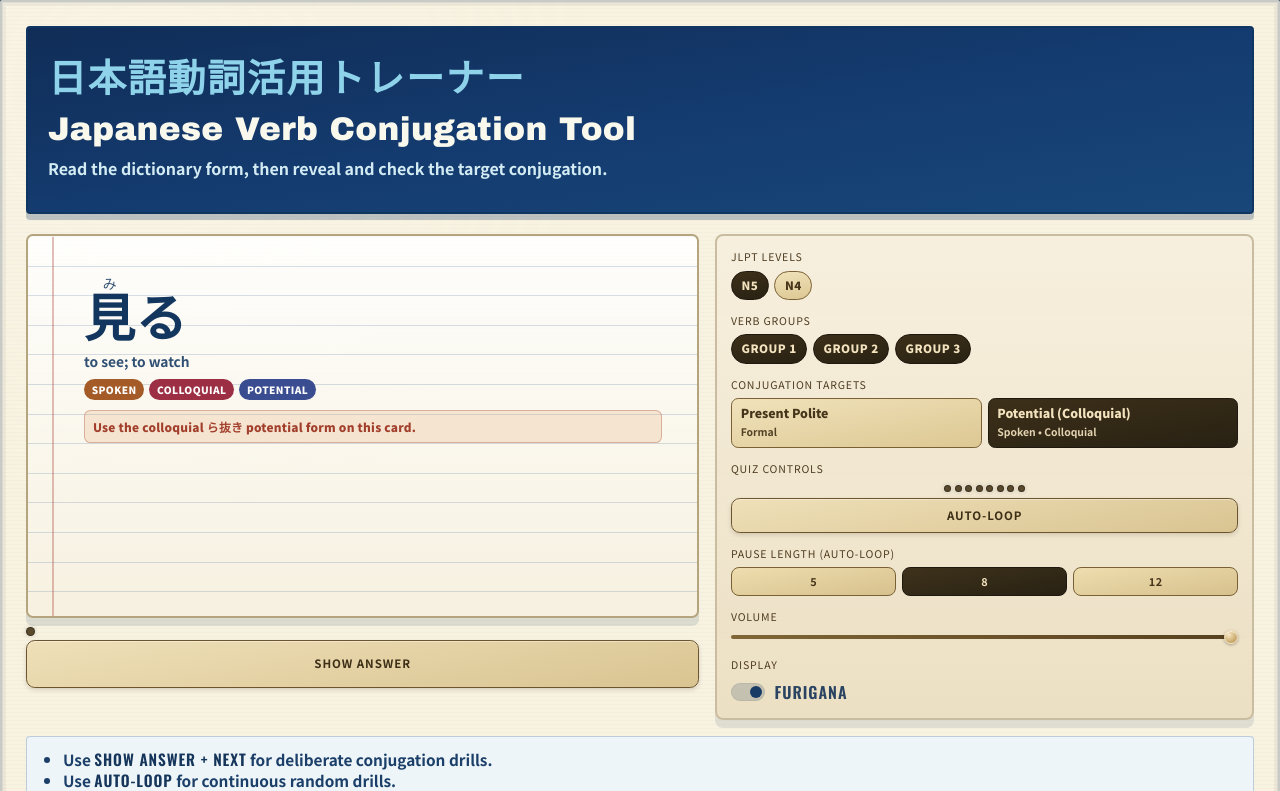
Test: JapaneseVerbConjugationToolPage › reveals immediately on power-on after a filter change
# First power-on reveals immediately
Step 1. Click the button "Auto-Loop" → [985, 515], box [731,498,1238,533]
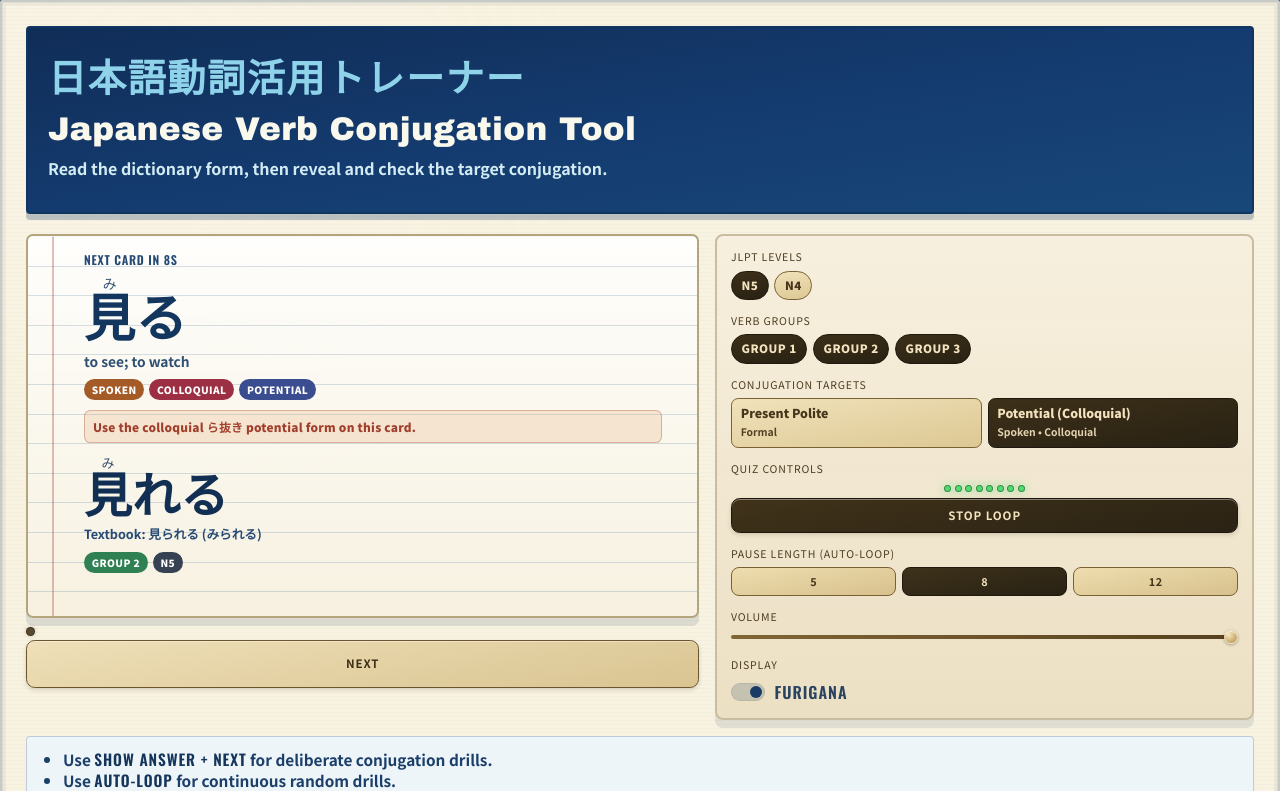
Expected: the text "れる" is shown, [132,456,228,526]
# Power off, advance past reveal
Step 2. Click the button "Stop Loop" → [985, 515], box [731,498,1238,533]
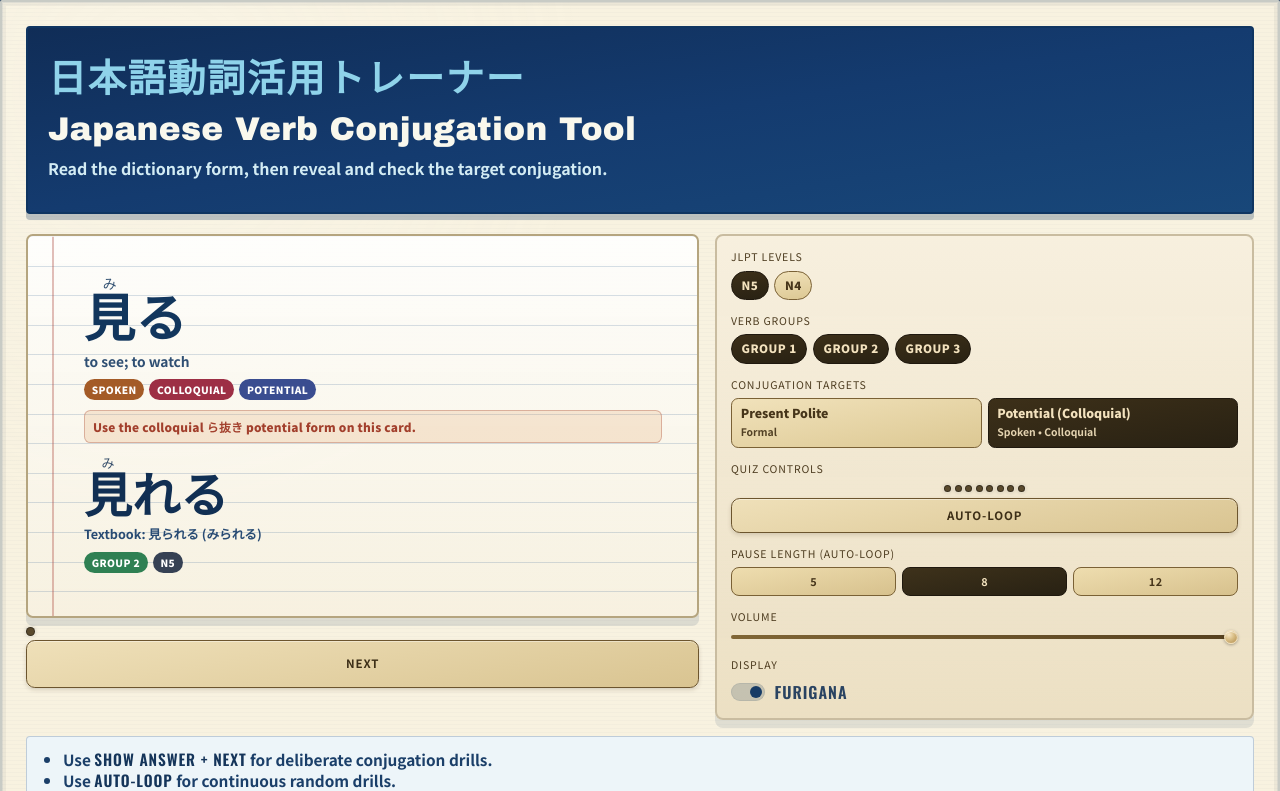
Step 3. Click the button with aria-label "advance to the next item" → [363, 664], box [26,640,699,688]
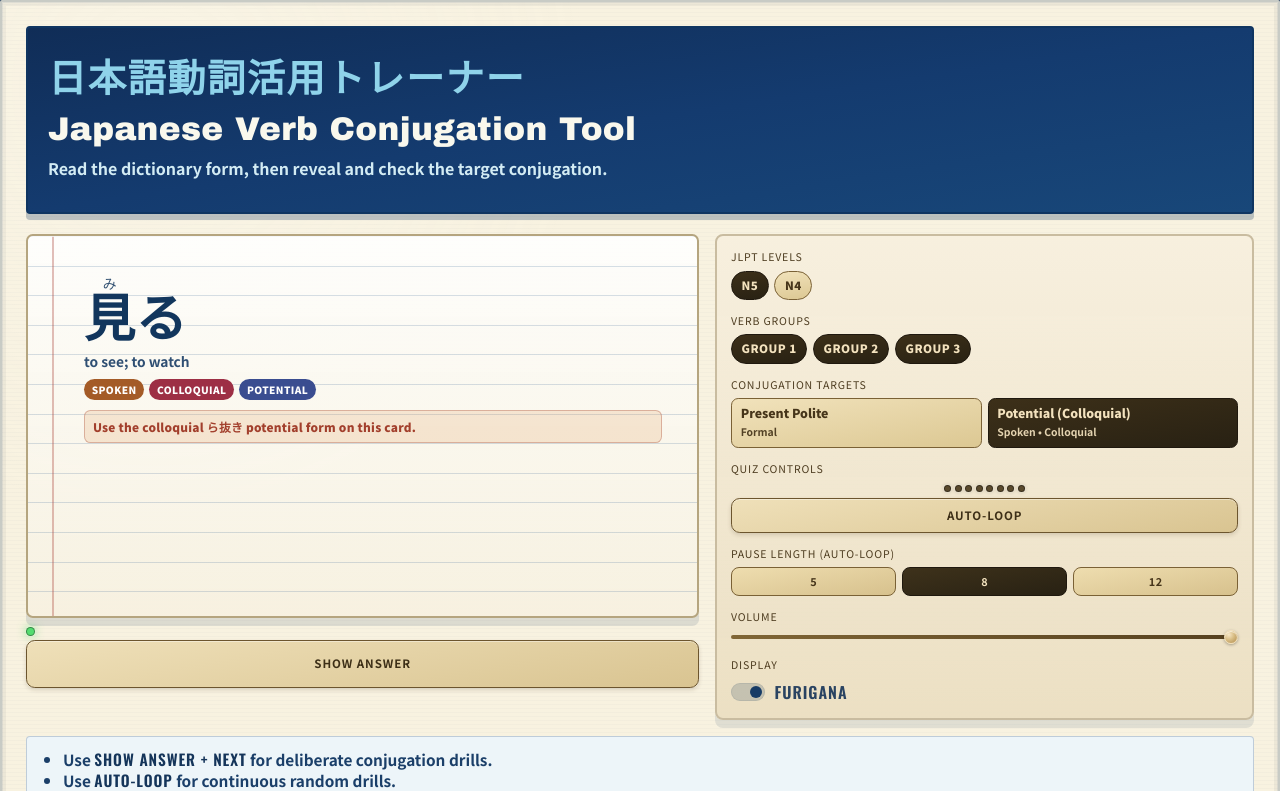
# Change a filter — this should reset isFirstPowerOnRef
Step 4. Click the button "N4" → [793, 285], box [774,271,812,300]
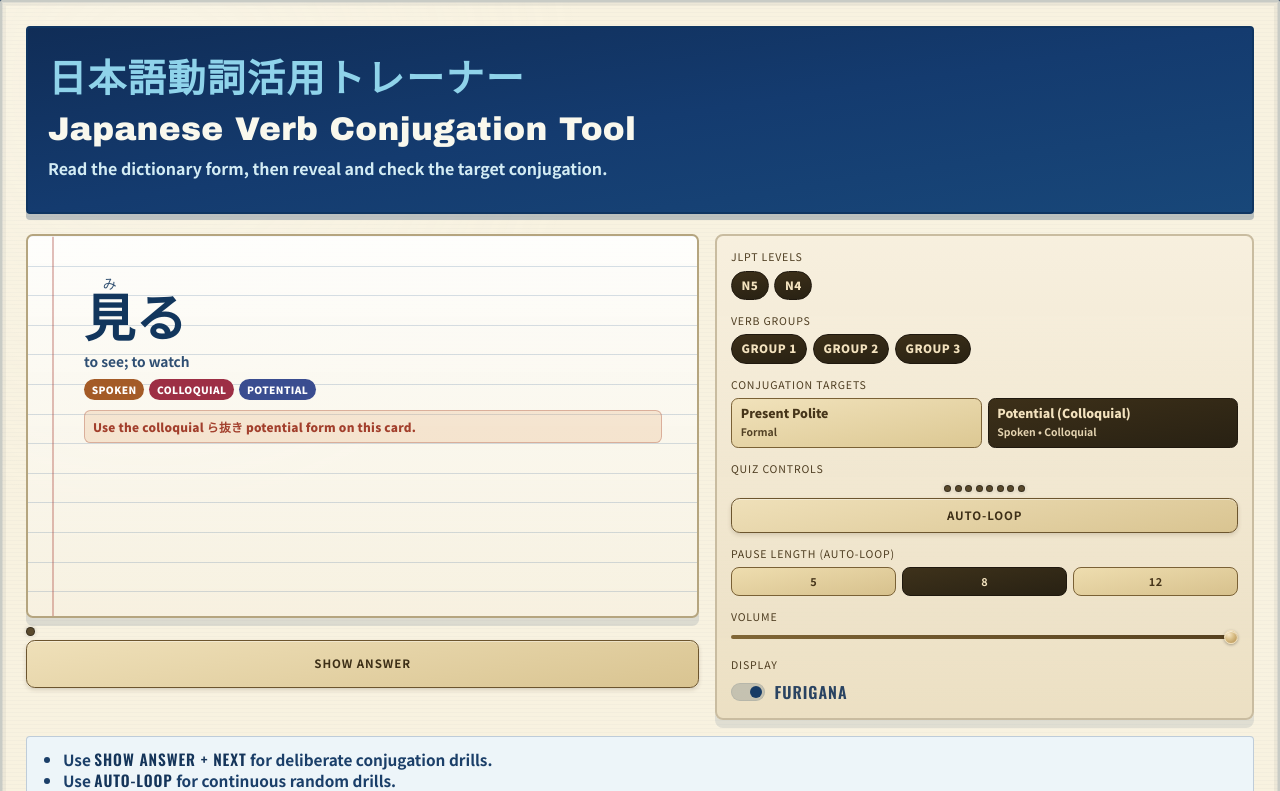
# Power on again — should immediately reveal (not wait for timer)
Step 5. Click the button "Auto-Loop" → [985, 515], box [731,498,1238,533]
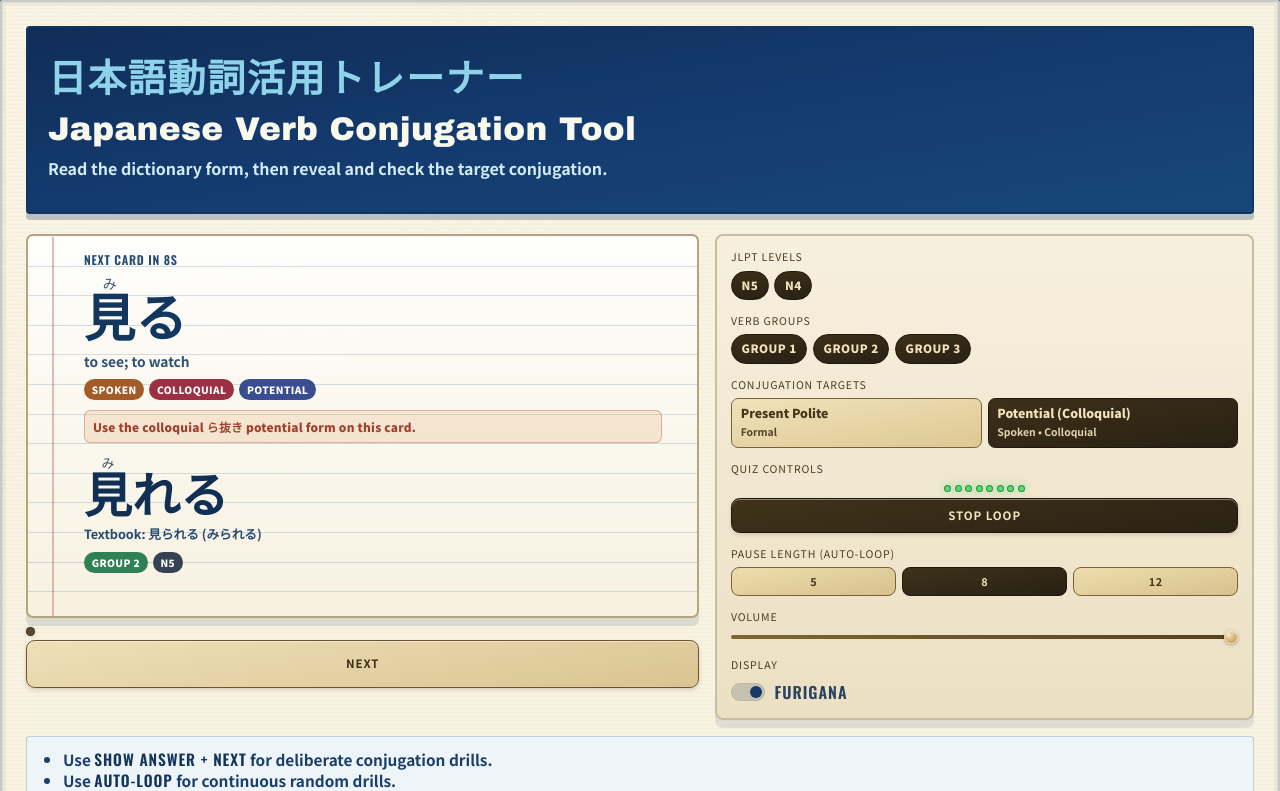
Expected: the text "れる" is shown, [132,456,228,526]
